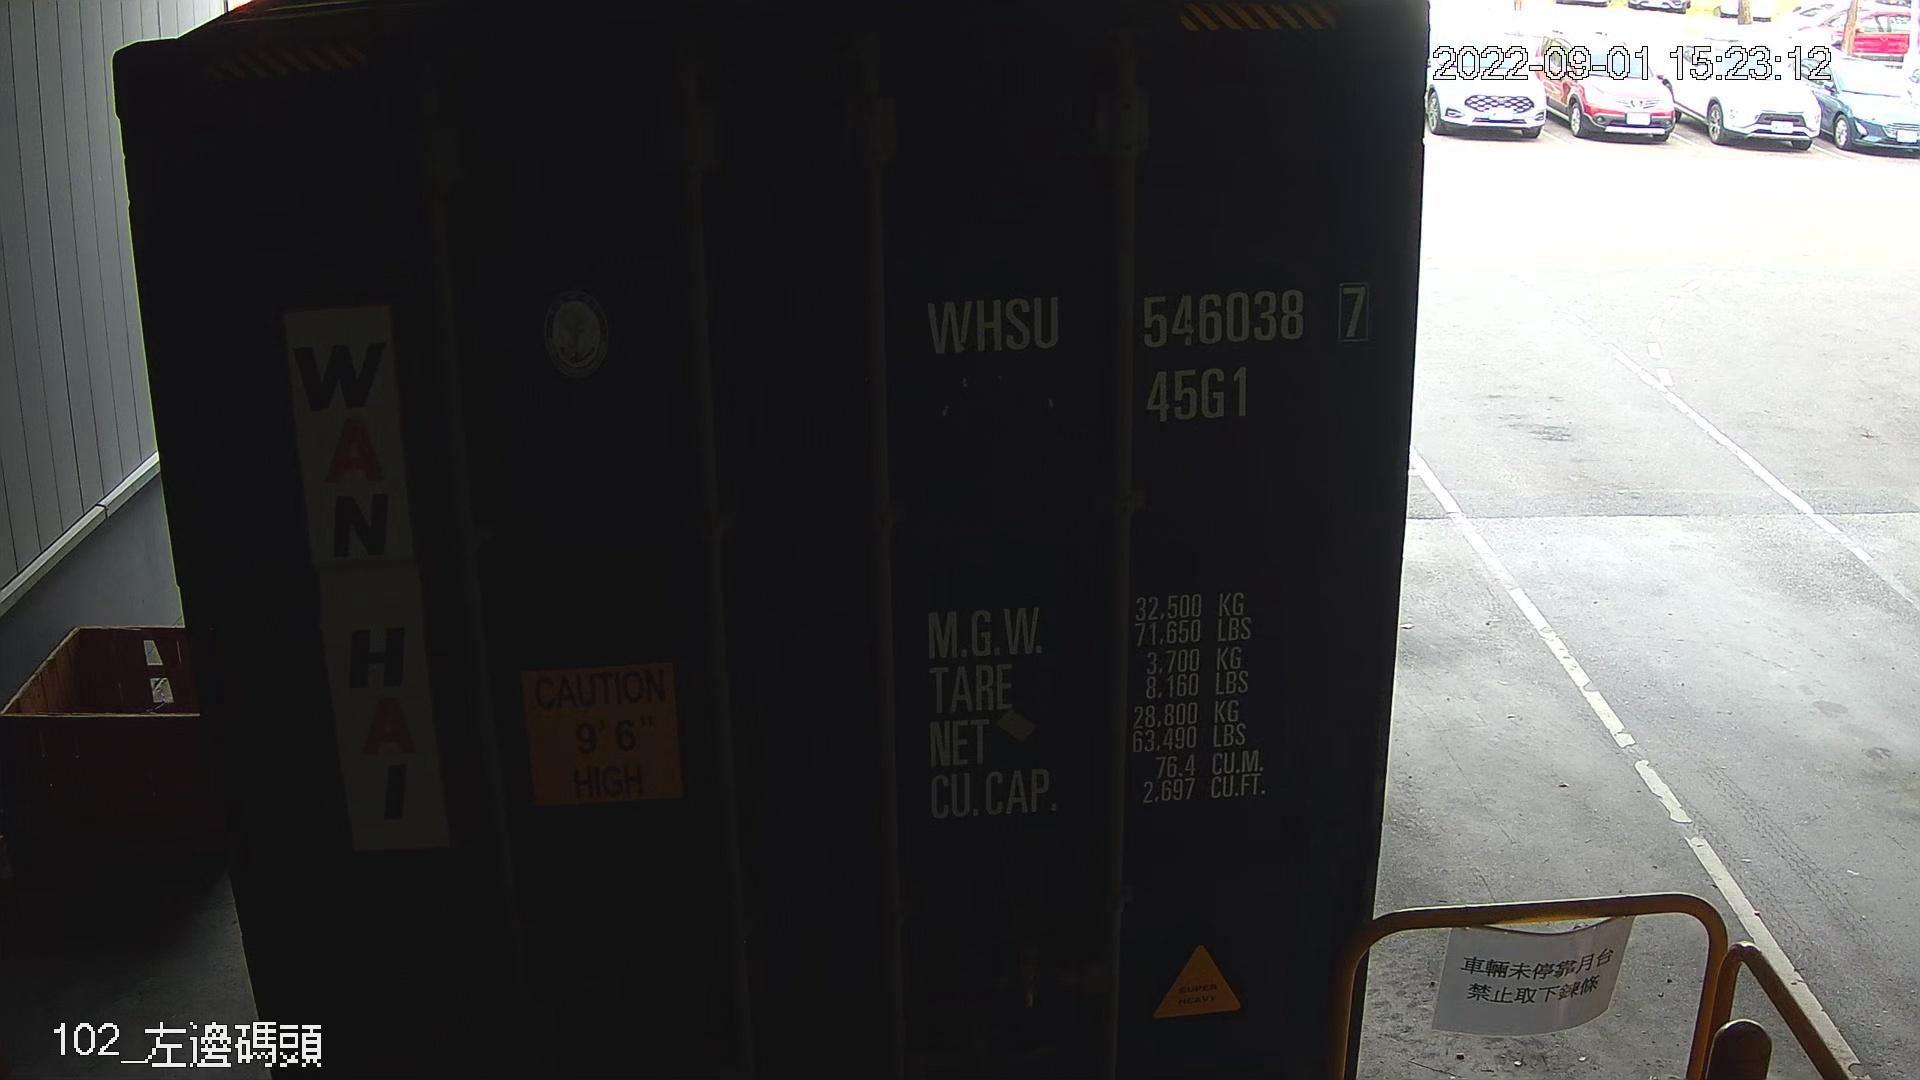container: (915, 276, 1391, 429)
